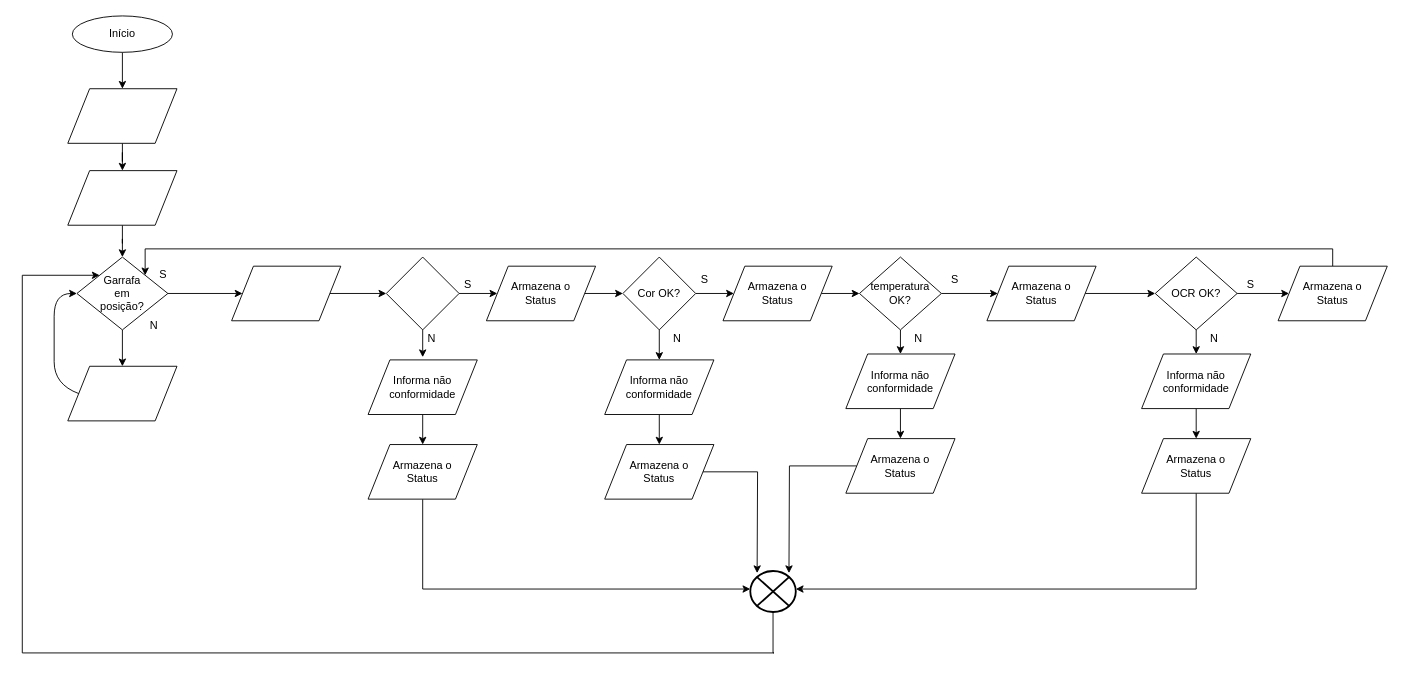
The diagram is 1403 pixels wide and 676 high, and some of its shapes have lost their labels. The box of each missing label's shape, as (x1, y1, x2, y2) in pixels:
Desliga backlight: (67, 365, 177, 421)
Exibe mensagem no display: (67, 170, 177, 225)
Inicializações: (67, 88, 177, 143)
Liga Display: (231, 265, 341, 321)
Volume OK?: (385, 256, 459, 330)
